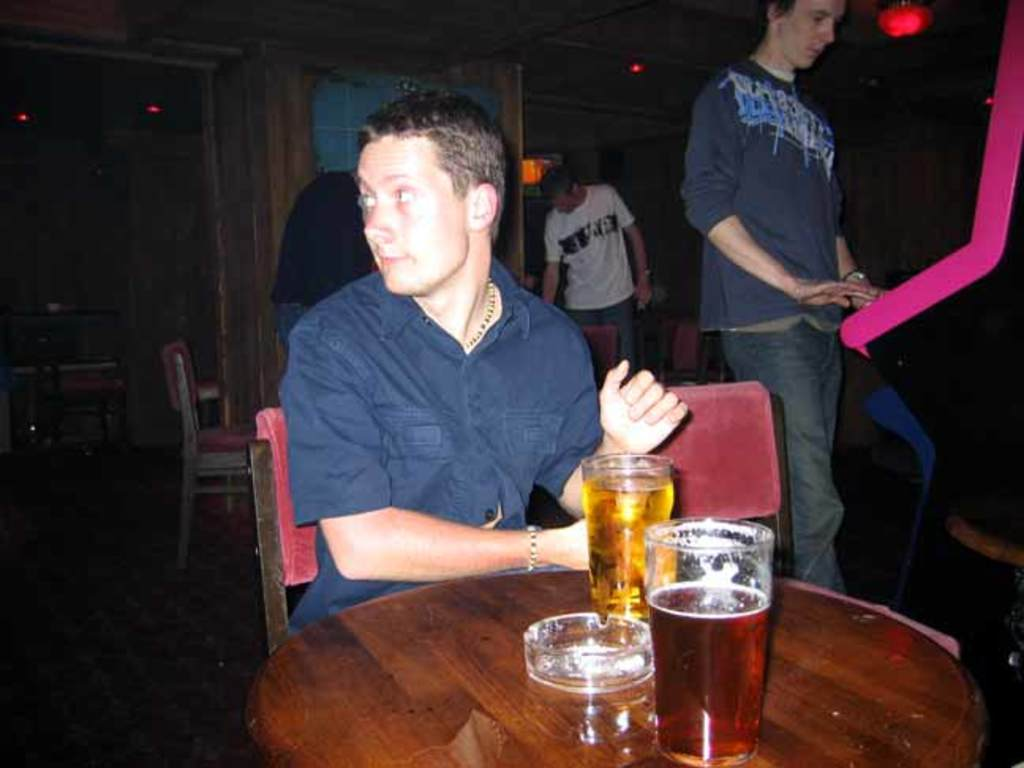Beer: (579, 469, 670, 621)
